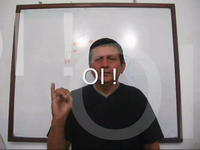oi: (49, 80, 76, 119)
